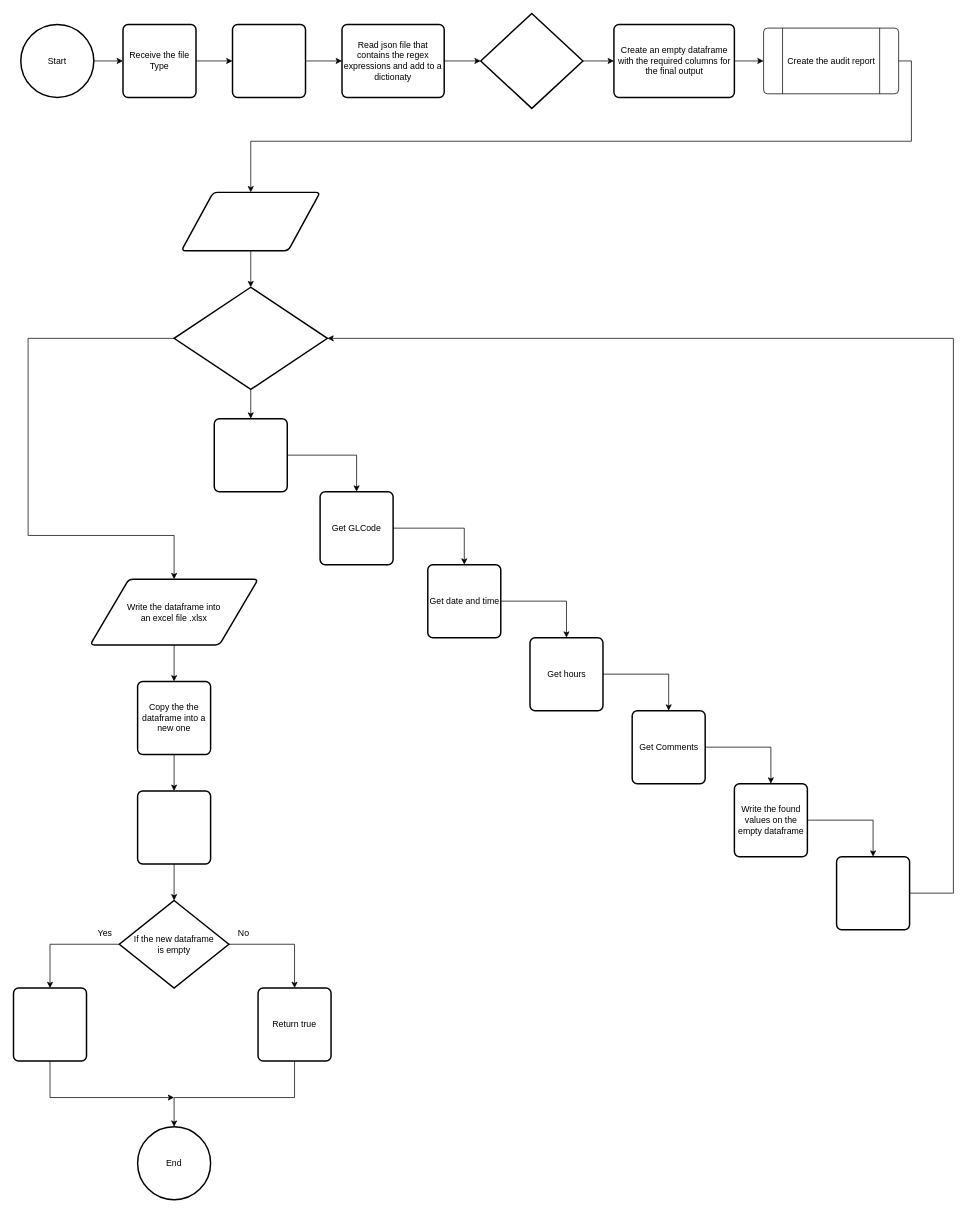
Some shapes in this 972 by 1213 pixel diagram are drawn without their labels. The centre of each missing label's shape, as x and y in pixels:
"Check the report type execution" goes at point (531, 60).
"Empty the old dataframe" goes at point (174, 827).
"Get nurse name" goes at point (250, 455).
"Iterate over each value in the dataframes of the list" goes at point (250, 338).
"Next nurse" goes at point (872, 893).
"Read the PDF file and save it into a list of dataframes" goes at point (250, 221).
"Receive the path of the PDF file" goes at point (268, 60).
"Retun false" goes at point (49, 1024).
